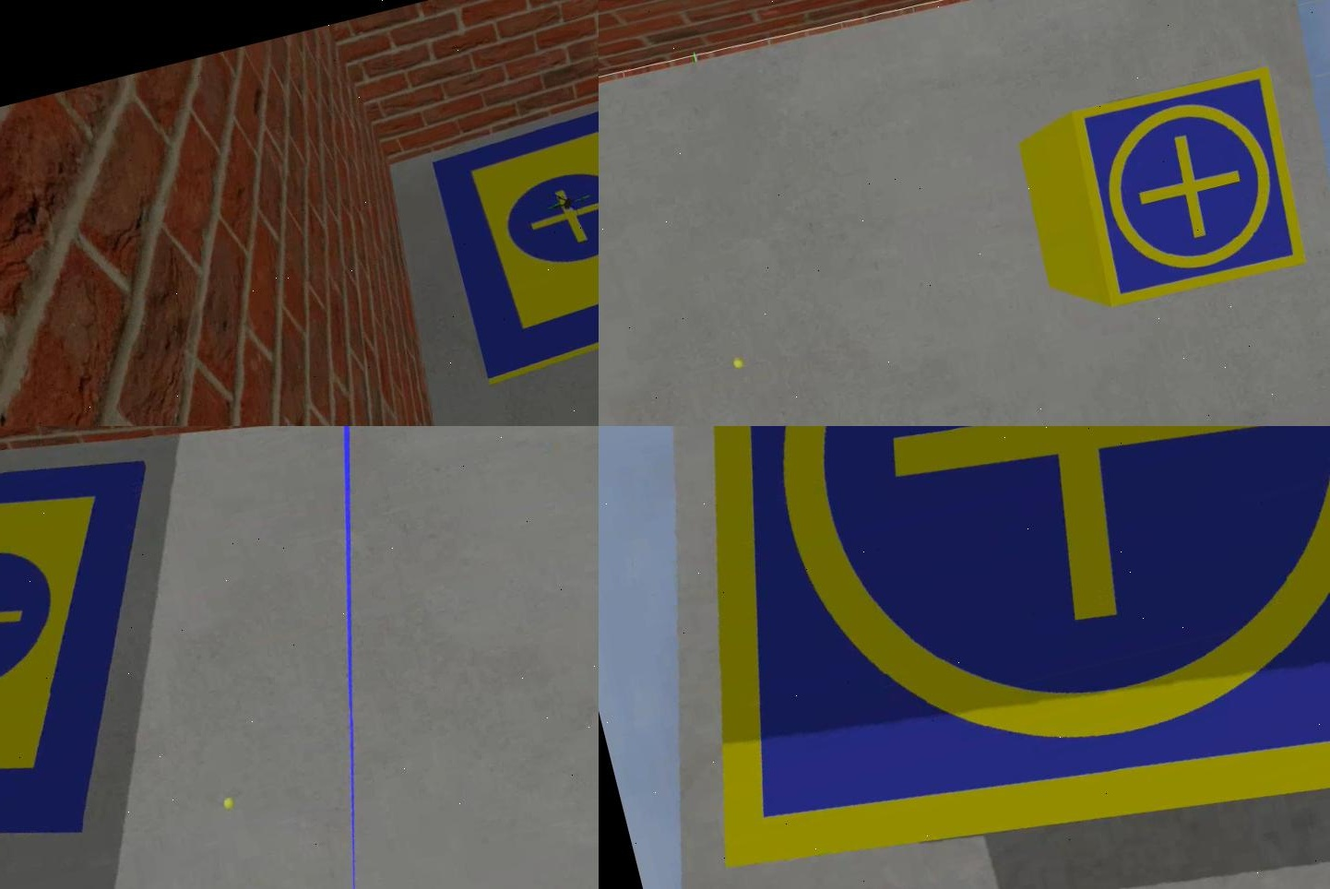large_base: (0, 426, 230, 889), (421, 77, 598, 391)
small_base: (598, 426, 1328, 889), (1056, 59, 1322, 315)
